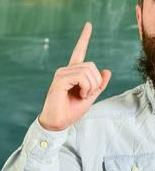up: (37, 21, 111, 125)
